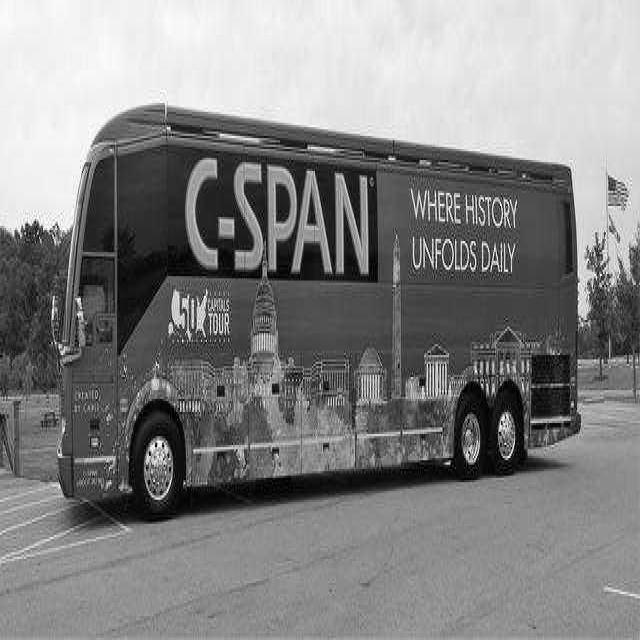Bus: (58, 107, 580, 515)
